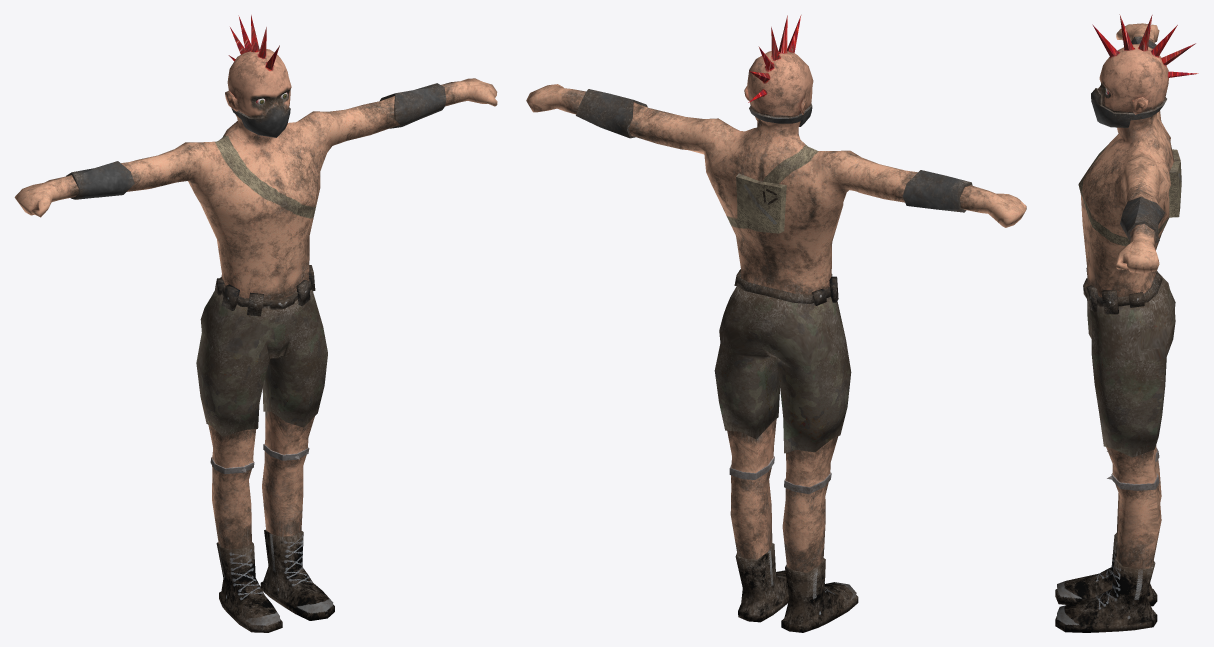
Rendered from NPC2.obj.
3 views of the same model, side by side, from view 1: azimuth 30°, elevation 25°; view 2: azimuth 150°, elevation 25°; view 3: azimuth 270°, elevation 25° (orthographic). The views are drawn at different scales.
Parts seen in each view (by area): view 1: NPC2; view 2: NPC2; view 3: NPC2.
Boxes of the visible parts, x1,y1,x2,y2 form: NPC2: (14, 15, 497, 632); NPC2: (526, 15, 1026, 632); NPC2: (1055, 14, 1198, 632).
Size of the model in its own units: 8.78 by 10.21 by 2.24.
Materials: 2 (2 with a texture image).
